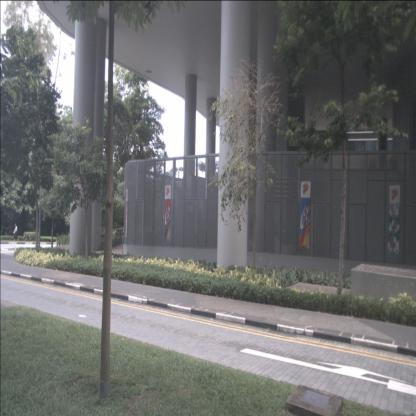human-pedestrian-adult: (13, 223, 19, 241)
